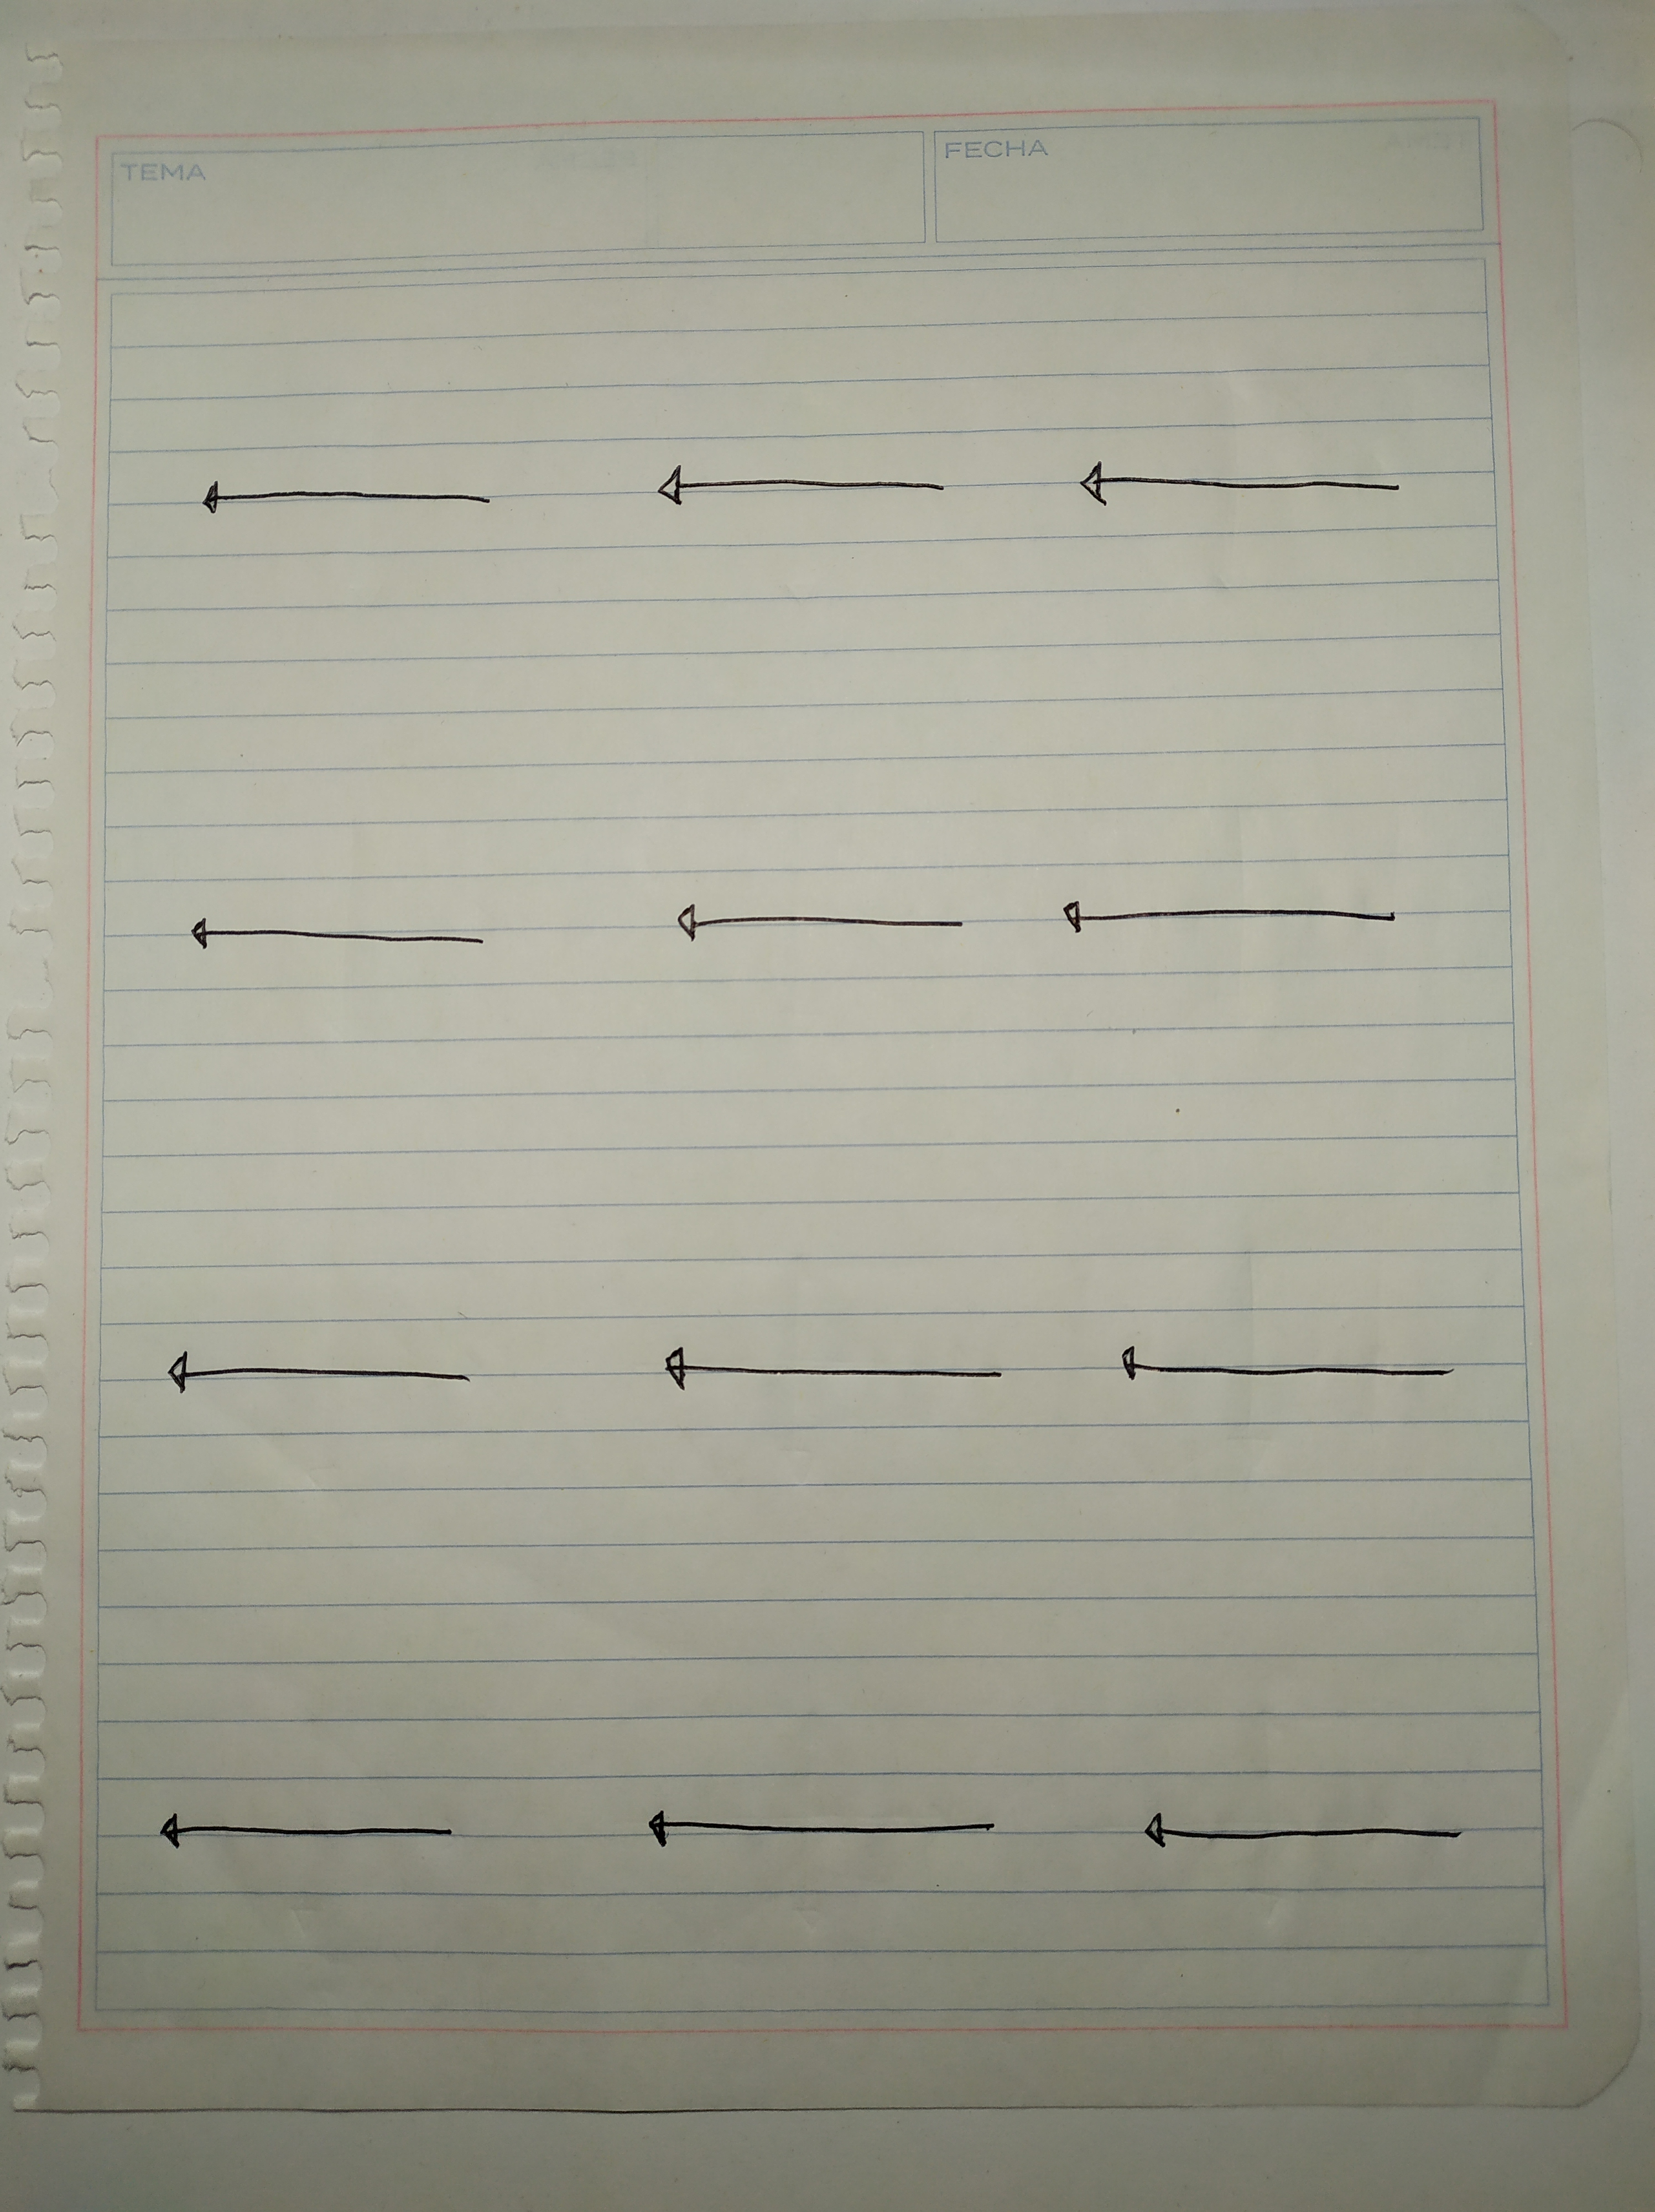arrow_line_left: (1043, 431, 1438, 565), (608, 1765, 1020, 1887), (614, 1322, 1024, 1435), (610, 438, 986, 561), (1090, 1321, 1499, 1434), (1104, 1778, 1509, 1882), (165, 440, 523, 546), (1024, 876, 1427, 968), (155, 883, 511, 985), (136, 1334, 511, 1427), (139, 1776, 483, 1875), (650, 886, 986, 975)
